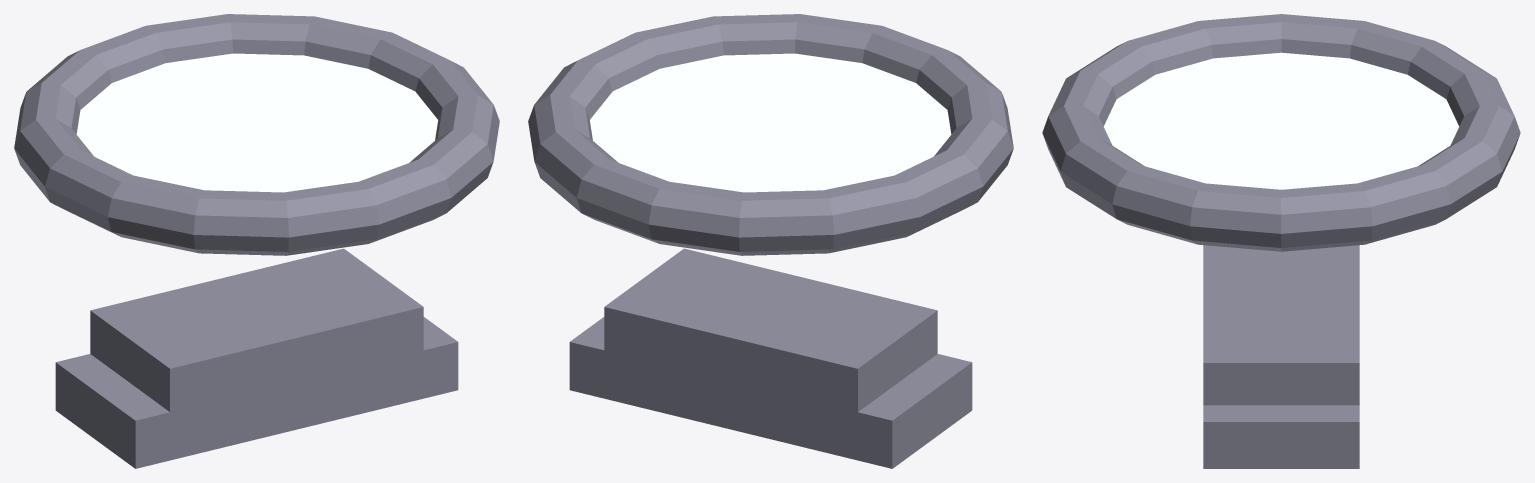
The model's file is portal_ring.glb.
The picture shows the model from 3 angles, left to right: view 1: azimuth 30°, elevation 25°; view 2: azimuth 150°, elevation 25°; view 3: azimuth 270°, elevation 25°; orthographic projection. The views are drawn at different scales.
Visible parts, largest first — view 1: portal_ring, portal_disc, portal_base1, portal_base0; view 2: portal_ring, portal_disc, portal_base1, portal_base0; view 3: portal_ring, portal_disc, portal_base1, portal_base0.
Part boxes in pixels (x1,y1,x2,y2): portal_ring: [14, 14, 499, 255]; portal_disc: [76, 53, 437, 192]; portal_base1: [90, 248, 423, 412]; portal_base0: [55, 317, 458, 468]; portal_ring: [528, 14, 1013, 255]; portal_disc: [590, 53, 951, 192]; portal_base1: [604, 248, 937, 413]; portal_base0: [569, 317, 972, 468]; portal_ring: [1042, 14, 1520, 251]; portal_disc: [1103, 52, 1459, 189]; portal_base1: [1203, 245, 1359, 405]; portal_base0: [1203, 405, 1359, 468].
Bounding box in the file's own units: 1.84 × 1.21 × 1.84.
